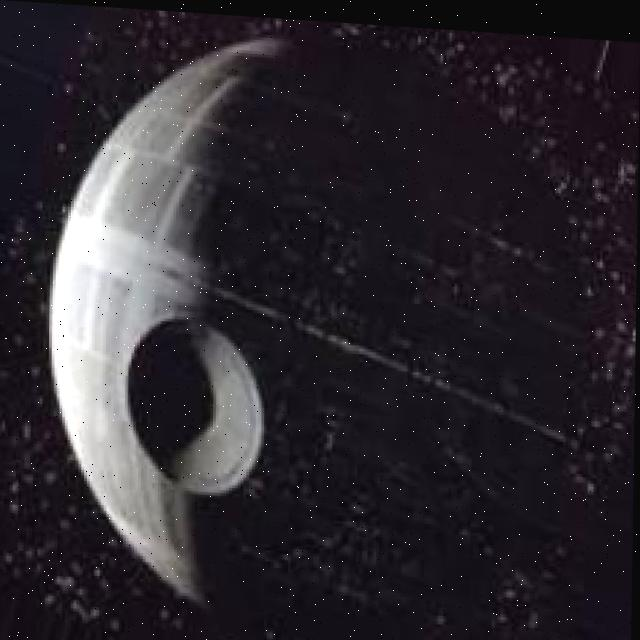deathstar: (49, 21, 588, 640)
